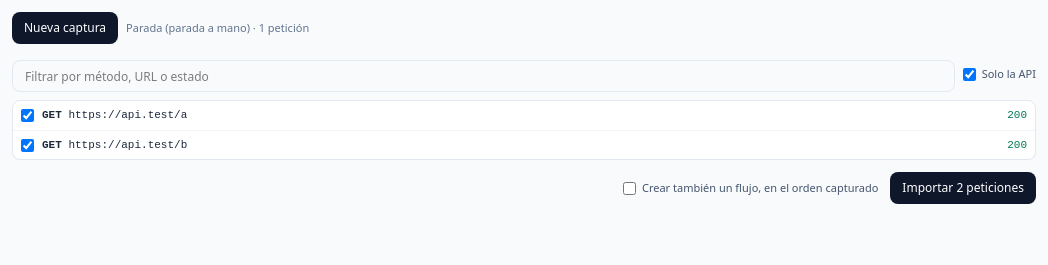
Test: abrir, parar e importar › importar: desmarcar cuenta, mientras importa lo dice, y un fallo se enseña
expect the button "Importar 2 peticiones" is shown: met, box [890,172,1036,204]
Click the checkbox named "Elegir GET https://api.test/b" at [28, 145], box [21,138,34,152]
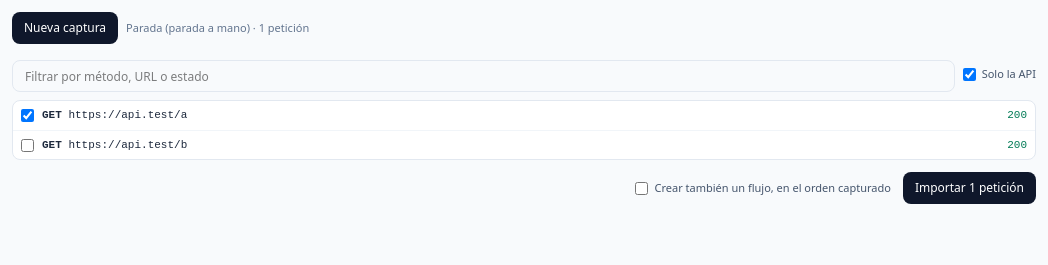
Click the checkbox named "Elegir GET https://api.test/b" at [28, 145], box [21,138,34,152]
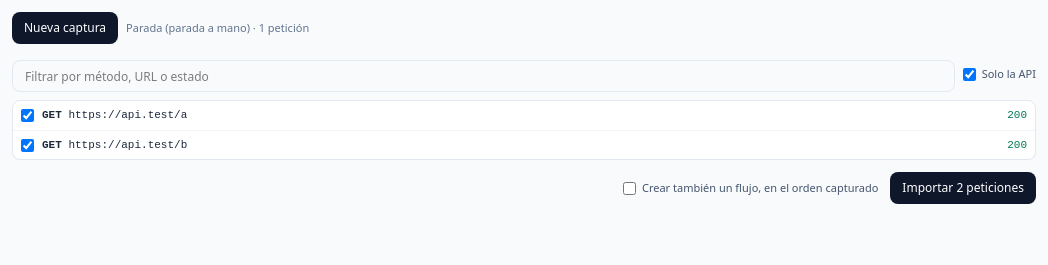
expect the button "Importar 2 peticiones" is shown: met, box [890,172,1036,204]
Click the checkbox named "Elegir GET https://api.test/b" at [28, 145], box [21,138,34,152]
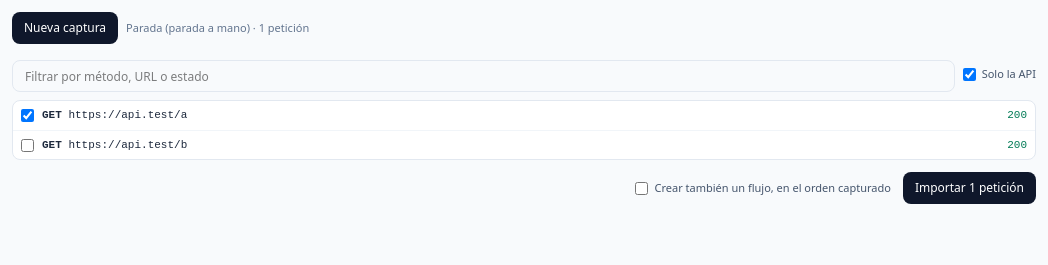
Click the button "Importar 1 petición" at [969, 188], box [903,172,1036,204]
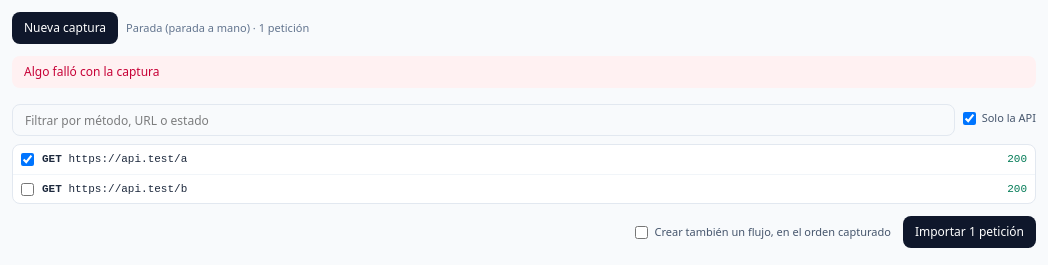
expect the button named "Importando…" is shown: met, box [903,216,1036,248]
expect the text "Algo falló con la captura" is shown: met, box [24,63,160,80]
